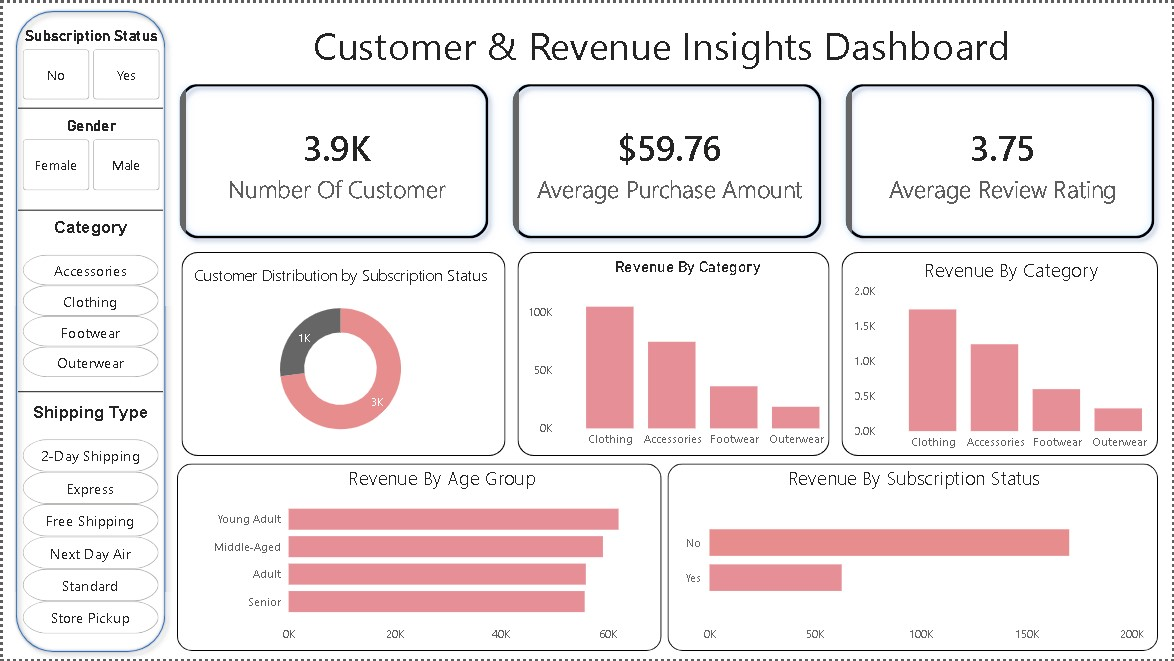

The page's visual inventory and layout, read from the dashboard file:
{"tool":"powerbi","page":{"name":"Page 1","canvas":[1300,730],"ordinal":0},"visuals":[{"type":"cardVisual","fields":{"Data":["project_db_new customer.Number Of Customer","project_db_new customer.avg purchase amount","project_db_new customer.avg reeview rating"]},"box":[178.3,71.7,1121.7,208.3],"z":0},{"type":"textbox","box":[180,11.7,1103.3,78.3],"z":1000},{"type":"shape","box":[198.3,276.7,360,226.7],"z":2000},{"type":"donutChart","title":"Customer Distribution by Subscription Status","fields":{"Category":["project_db_new customer.subscription_status"],"Y":["project_db_new customer.Number Of Customer"]},"box":[192,290,366,208],"z":3000},{"type":"shape","box":[571.7,276.7,346.7,226.7],"z":4000},{"type":"shape","box":[931.7,276.7,351.7,226.7],"z":5000},{"type":"clusteredColumnChart","title":"Revenue By Category","fields":{"Y":["Sum(project_db_new customer.purchase_amount_in_usd)"],"Category":["project_db_new customer.category"]},"box":[580,283.3,361.7,220],"z":6000},{"type":"clusteredColumnChart","title":"Revenue By Category","fields":{"Category":["project_db_new customer.category"],"Y":["project_db_new customer.Number Of Customer"]},"box":[941.7,280,358.3,226.7],"z":7000},{"type":"shape","box":[0,0,194,730],"z":8000},{"type":"advancedSlicerVisual","fields":{"Values":["project_db_new customer.Subscription Status"]},"box":[16.2,26.2,163.8,86.2],"z":9000},{"type":"advancedSlicerVisual","fields":{"Values":["project_db_new customer.gender"]},"box":[16.7,126.7,163.3,86.7],"z":10000},{"type":"advancedSlicerVisual","title":"Category","fields":{"Values":["project_db_new customer.category"]},"box":[16.2,238.8,161.2,200],"z":11000},{"type":"advancedSlicerVisual","title":"Shipping Type","fields":{"Values":["project_db_new customer.shipping_type"]},"box":[16.2,443.8,161.2,282.5],"z":12000},{"type":"shape","box":[16.2,105,161.2,23.8],"z":13000},{"type":"shape","box":[16.2,217.5,161.2,23.8],"z":14000},{"type":"shape","box":[16.2,420,161.2,23.8],"z":15000},{"type":"clusteredBarChart","title":"Revenue By Age Group","fields":{"Category":["project_db_new customer.age_group"],"Y":["Sum(project_db_new customer.purchase_amount_in_usd)"]},"box":[230,511.7,515,208.3],"z":16000},{"type":"shape","box":[193.3,511.7,538.3,208.3],"z":17000},{"type":"shape","box":[738.3,511.7,545,208.3],"z":18000},{"type":"clusteredBarChart","title":"Revenue By Subscription Status","fields":{"Y":["Sum(project_db_new customer.purchase_amount_in_usd)"],"Category":["project_db_new customer.Subscription Status"]},"box":[751.7,511.7,520,208.3],"z":19000}]}

Visuals, with their boxes in screenshot pixels (x1, y1, x2, y2), scaled from the page's 1300x730 canvas onto the 1174x661 screenshot:
cardVisual - project_db_new customer.Number Of Customer x project_db_new customer.avg purchase amount: 161 65 1173 254
textbox: 163 11 1159 81
shape: 179 251 504 456
"Customer Distribution by Subscription Status" donutChart: 173 263 504 451
shape: 516 251 829 456
shape: 841 251 1159 456
"Revenue By Category" clusteredColumnChart: 524 257 850 456
"Revenue By Category" clusteredColumnChart: 850 254 1173 459
shape: 0 0 175 660
advancedSlicerVisual - project_db_new customer.Subscription Status: 15 24 163 102
advancedSlicerVisual - project_db_new customer.gender: 15 115 163 193
"Category" advancedSlicerVisual: 15 216 160 397
"Shipping Type" advancedSlicerVisual: 15 402 160 658
shape: 15 95 160 117
shape: 15 197 160 218
shape: 15 380 160 402
"Revenue By Age Group" clusteredBarChart: 208 463 673 652
shape: 175 463 661 652
shape: 667 463 1159 652
"Revenue By Subscription Status" clusteredBarChart: 679 463 1148 652
